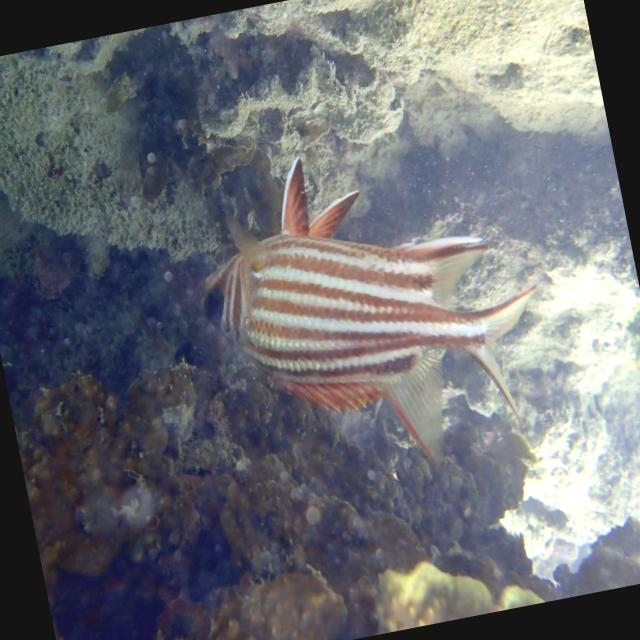Asker Baligi: (150, 111, 577, 523)
